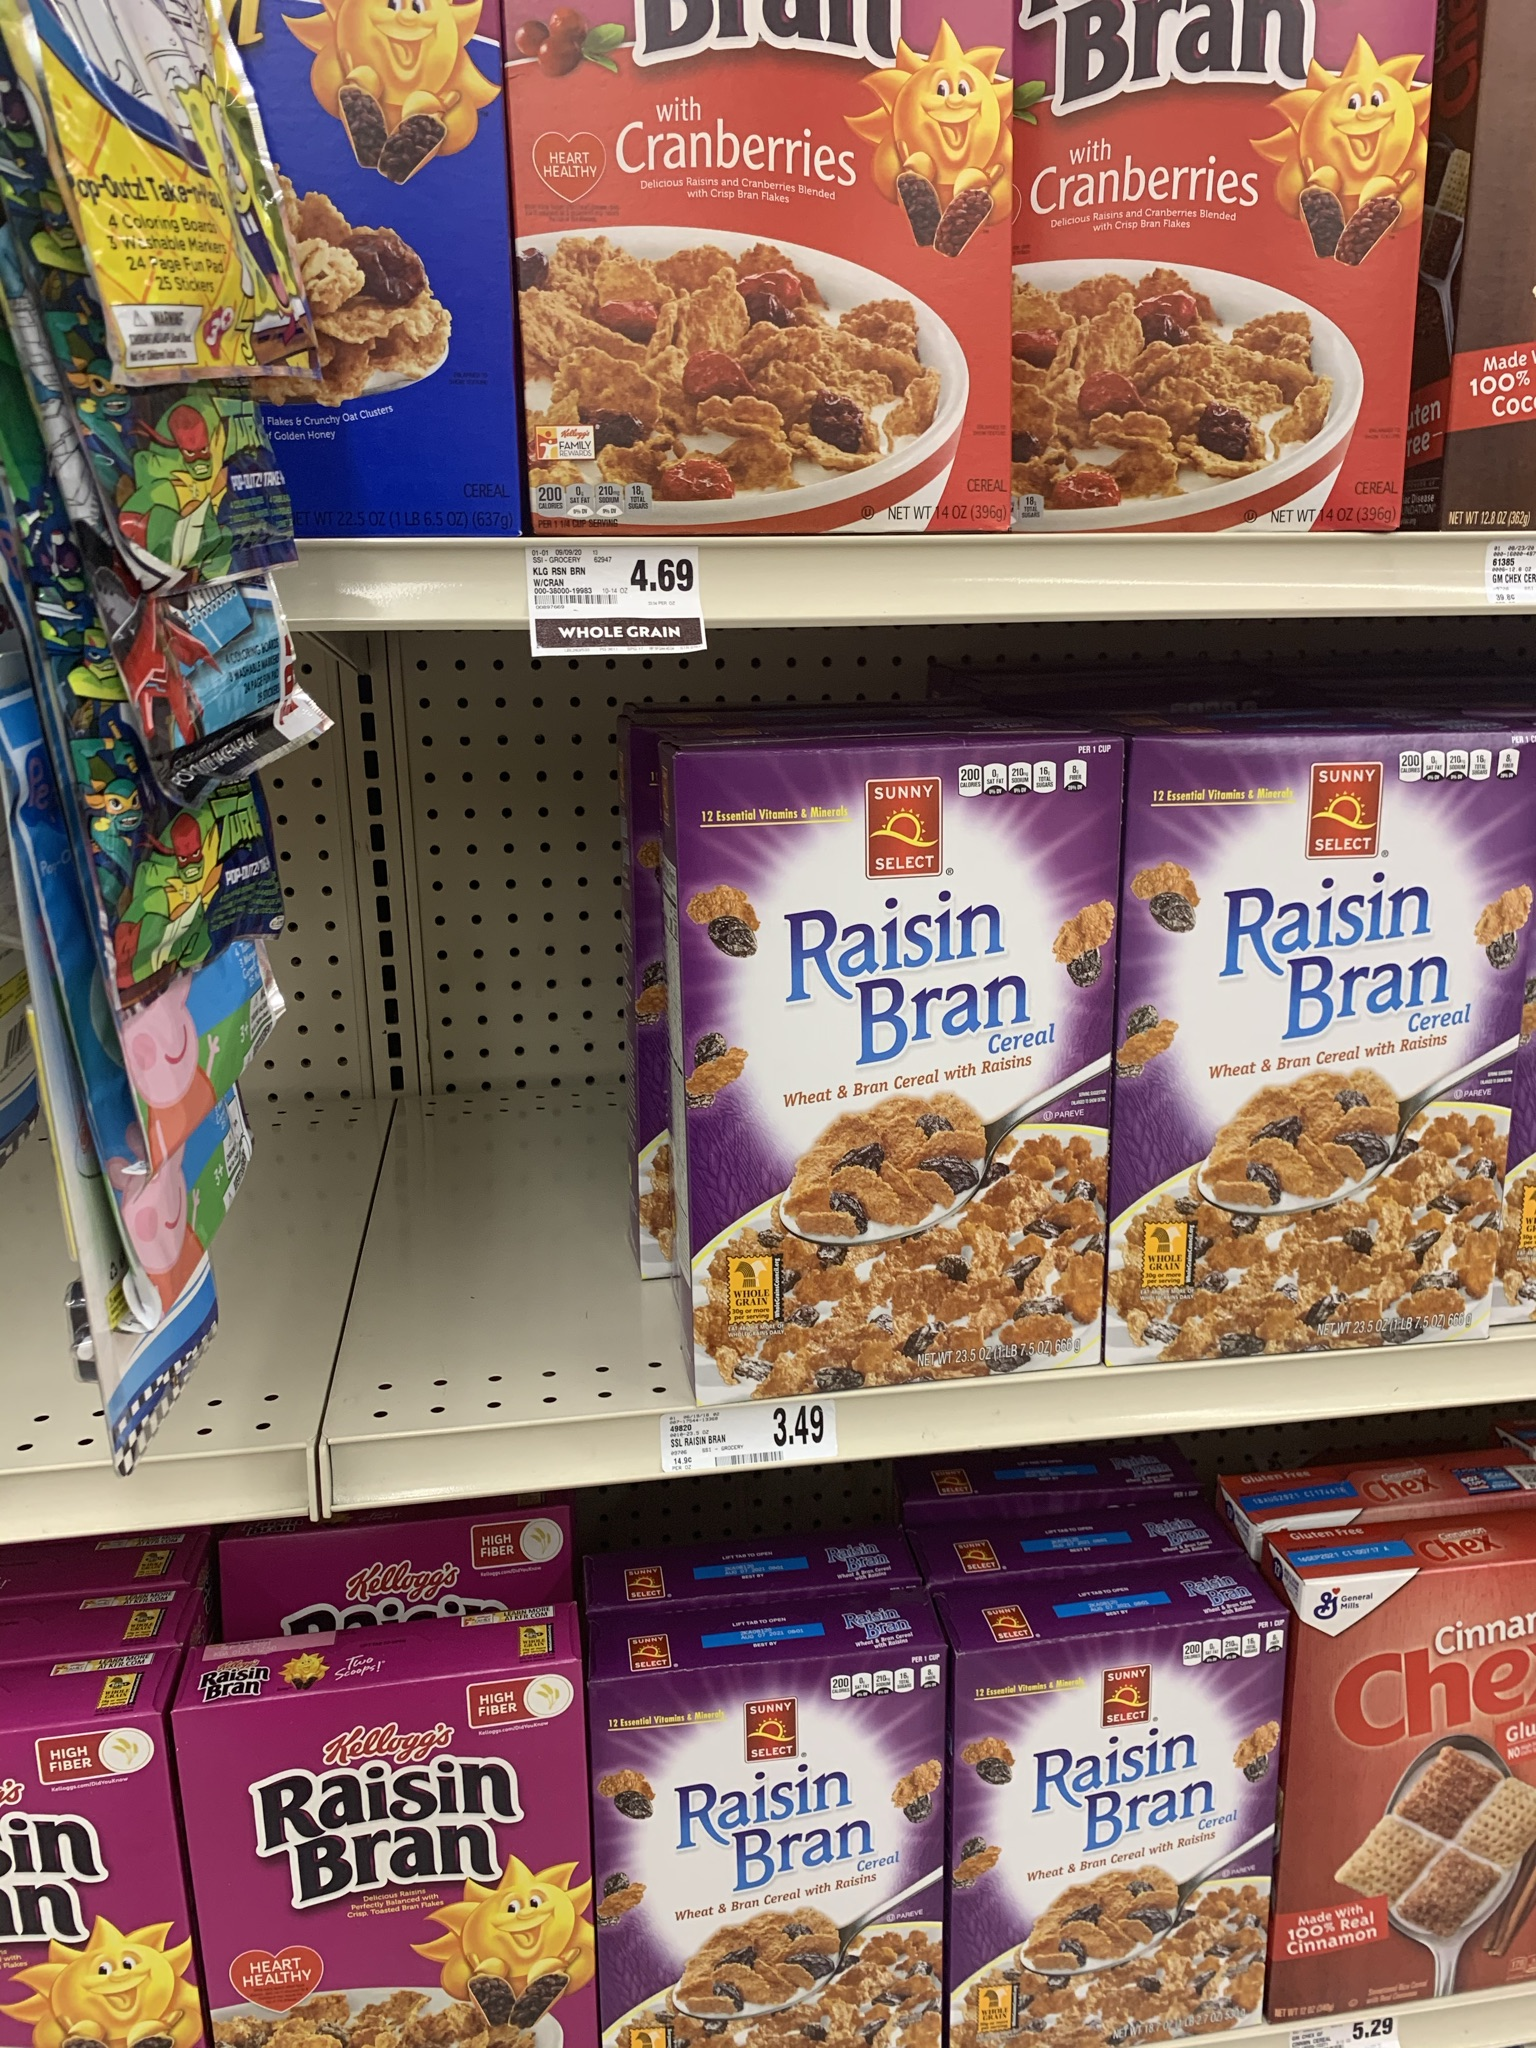Cereal raisin: (666, 769, 1102, 1334), (1134, 748, 1534, 1321), (169, 1709, 592, 2048), (620, 1679, 949, 2048), (971, 1664, 1284, 2042)
